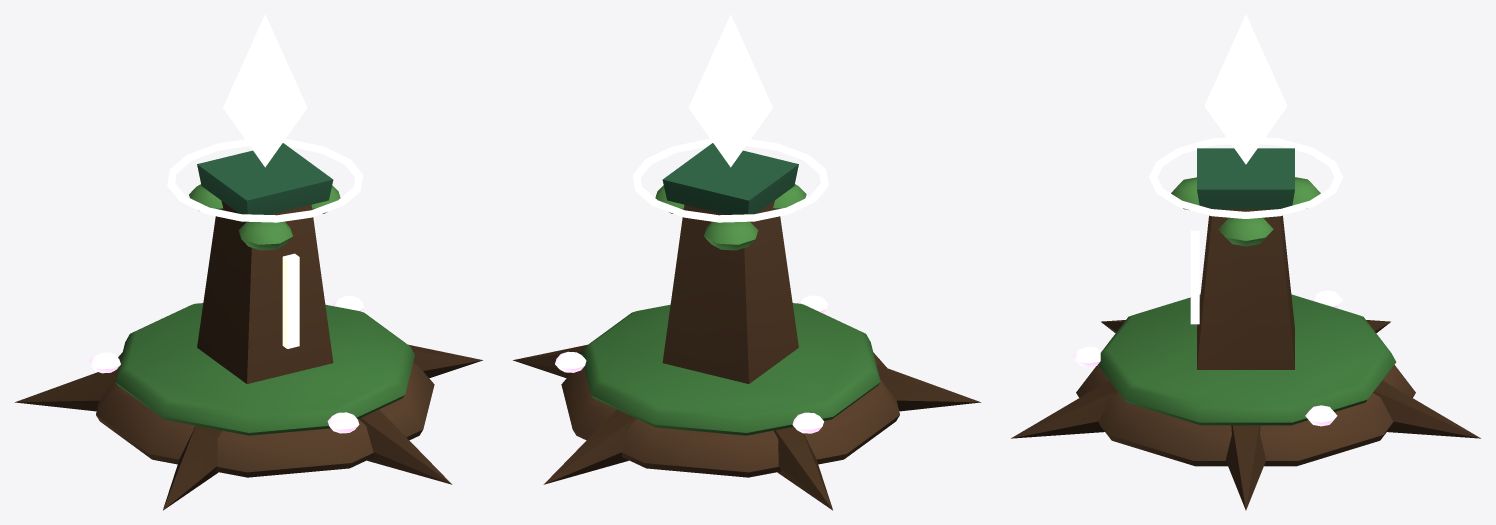
Rendered from sylvestres_2.glb.
The picture shows the model from 3 angles, left to right: view 1: azimuth 30°, elevation 25°; view 2: azimuth 150°, elevation 25°; view 3: azimuth 270°, elevation 25°; orthographic projection.
Visible parts, largest first — view 1: sylvestres_2_peint, Cristal_lueur, Givre, Rune, sylvestres_2_lueur; view 2: sylvestres_2_peint, Cristal_lueur, Givre, sylvestres_2_lueur; view 3: sylvestres_2_peint, Cristal_lueur, Givre, sylvestres_2_lueur, Rune.
Part boxes in pixels (box(x1,y1,x2,y2)): sylvestres_2_peint: box(15, 143, 482, 510); Cristal_lueur: box(223, 14, 307, 167); Givre: box(167, 139, 363, 222); Rune: box(282, 253, 299, 348); sylvestres_2_lueur: box(89, 295, 364, 433); sylvestres_2_peint: box(513, 143, 980, 510); Cristal_lueur: box(688, 14, 772, 167); Givre: box(632, 139, 828, 222); sylvestres_2_lueur: box(555, 295, 828, 433); sylvestres_2_peint: box(1011, 148, 1480, 510); Cristal_lueur: box(1204, 14, 1287, 164); Givre: box(1149, 137, 1342, 218); sylvestres_2_lueur: box(1073, 290, 1342, 426); Rune: box(1190, 230, 1199, 324).
Size of the model in its own units: 0.9693 by 0.9411 by 1.02.
